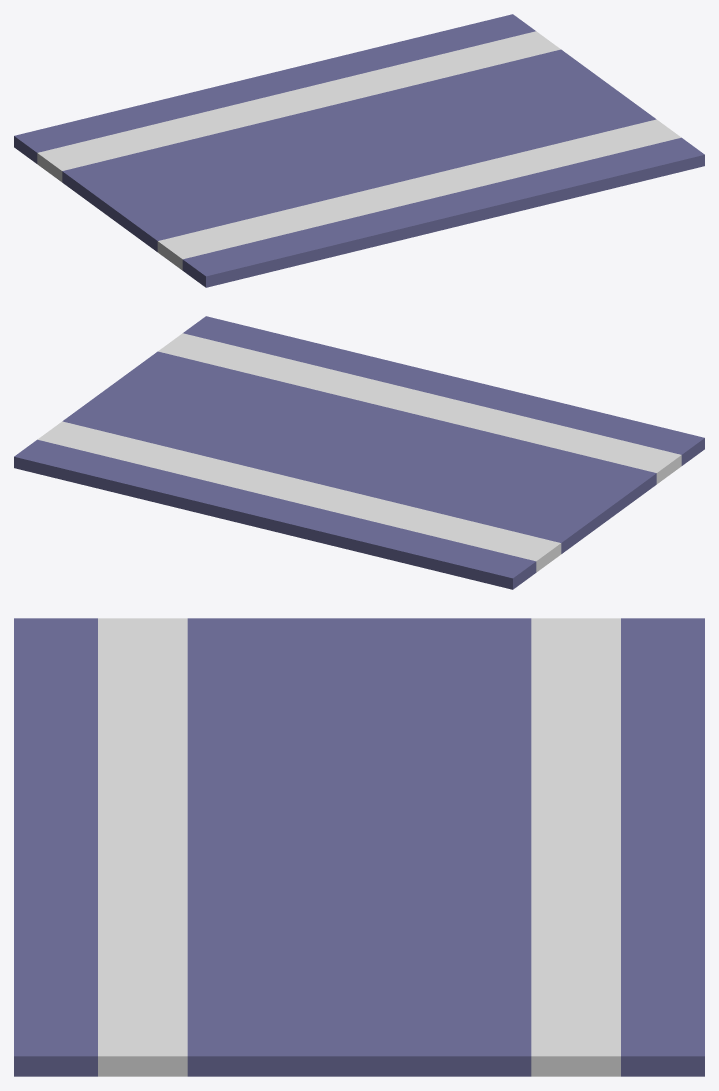
The model's file is Street_Base.fbx.
3 views of the same model, one above another, from view 1: azimuth 30°, elevation 25°; view 2: azimuth 150°, elevation 25°; view 3: azimuth 270°, elevation 25° (orthographic). The views are drawn at different scales.
Visible parts, largest first — view 1: pCube46; view 2: pCube46; view 3: pCube46.
Part boxes in pixels (bbox=[...]): pCube46: bbox=[14, 14, 704, 287]; pCube46: bbox=[14, 316, 704, 589]; pCube46: bbox=[14, 618, 704, 1076].
Bounding box in the file's own units: 12 × 0.2624 × 8.
